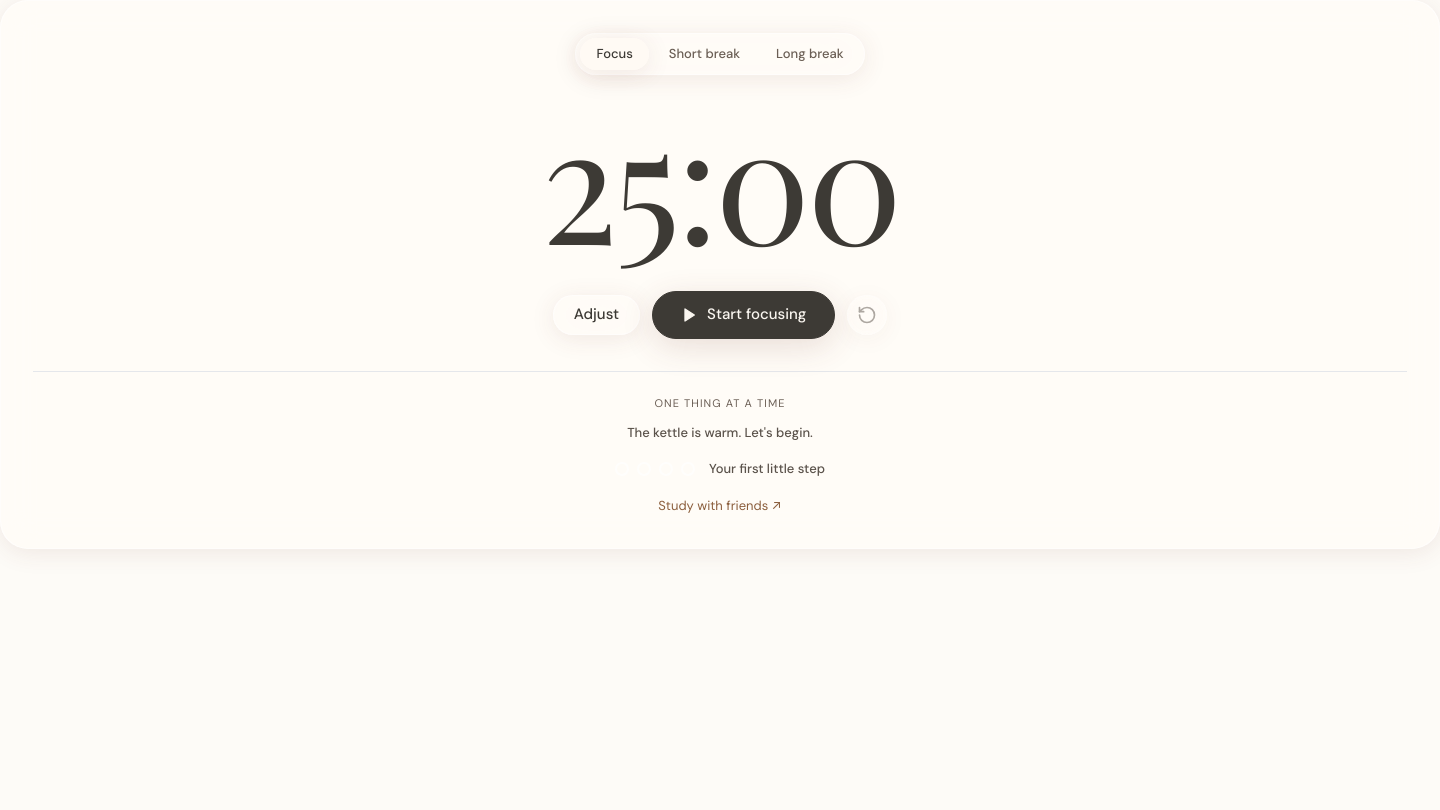
Scenario: TimerCard UI › Mode switch while running opens confirmation modal and handles Keep going vs Switch
Later steps or results of the test are not shown.
# Start timer
Click the button "Start focusing" at point(744, 314), box [652, 290, 835, 338]
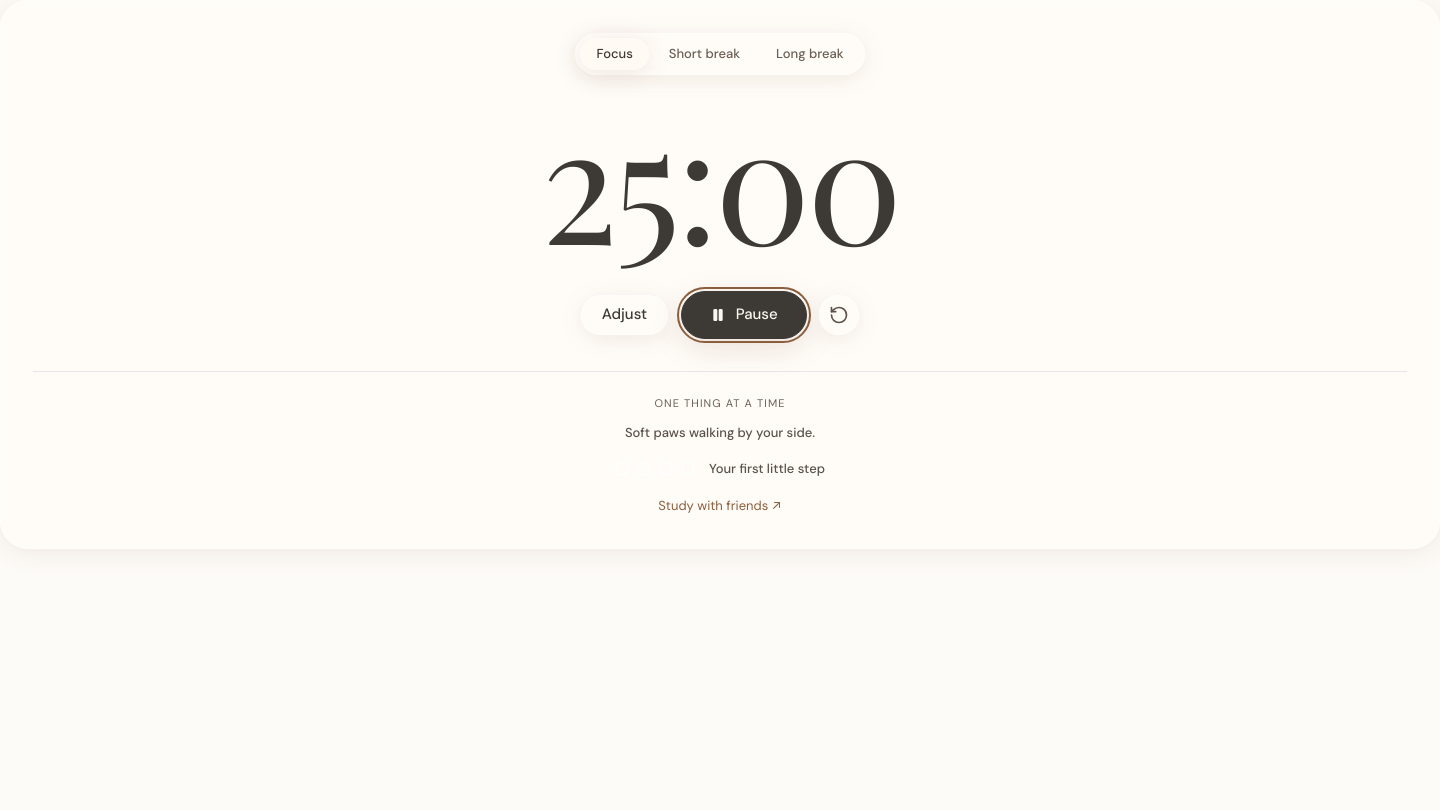
# Attempt to switch mode to Short break
Click the tab "Short break" at point(704, 54), box [653, 38, 756, 70]
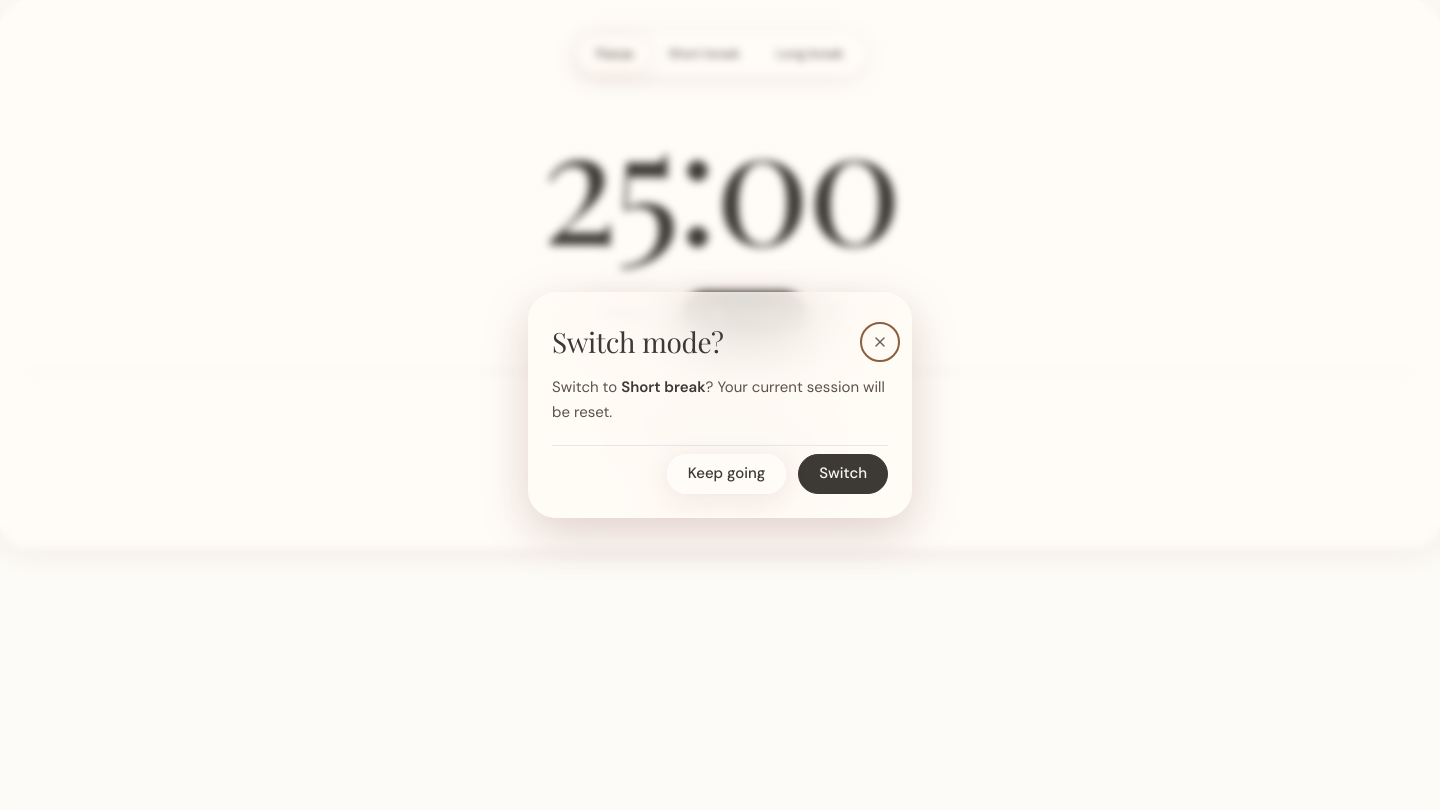
Now the dialog "Switch mode?" is shown, box [528, 292, 912, 518]
# Click "Keep going"
Click the button "Keep going" at point(726, 474), box [667, 454, 786, 494]
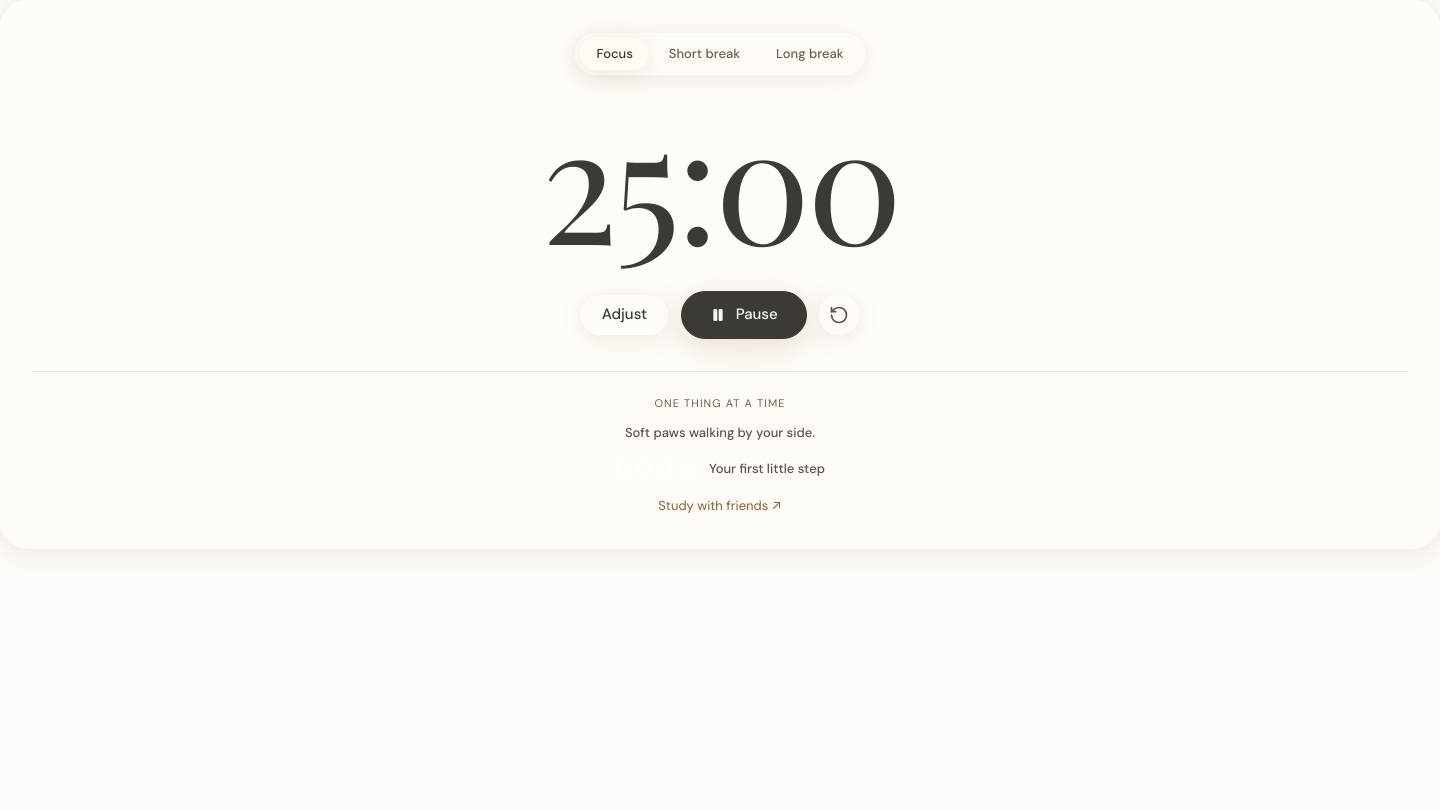
Now the heading "Switch mode?" is gone
